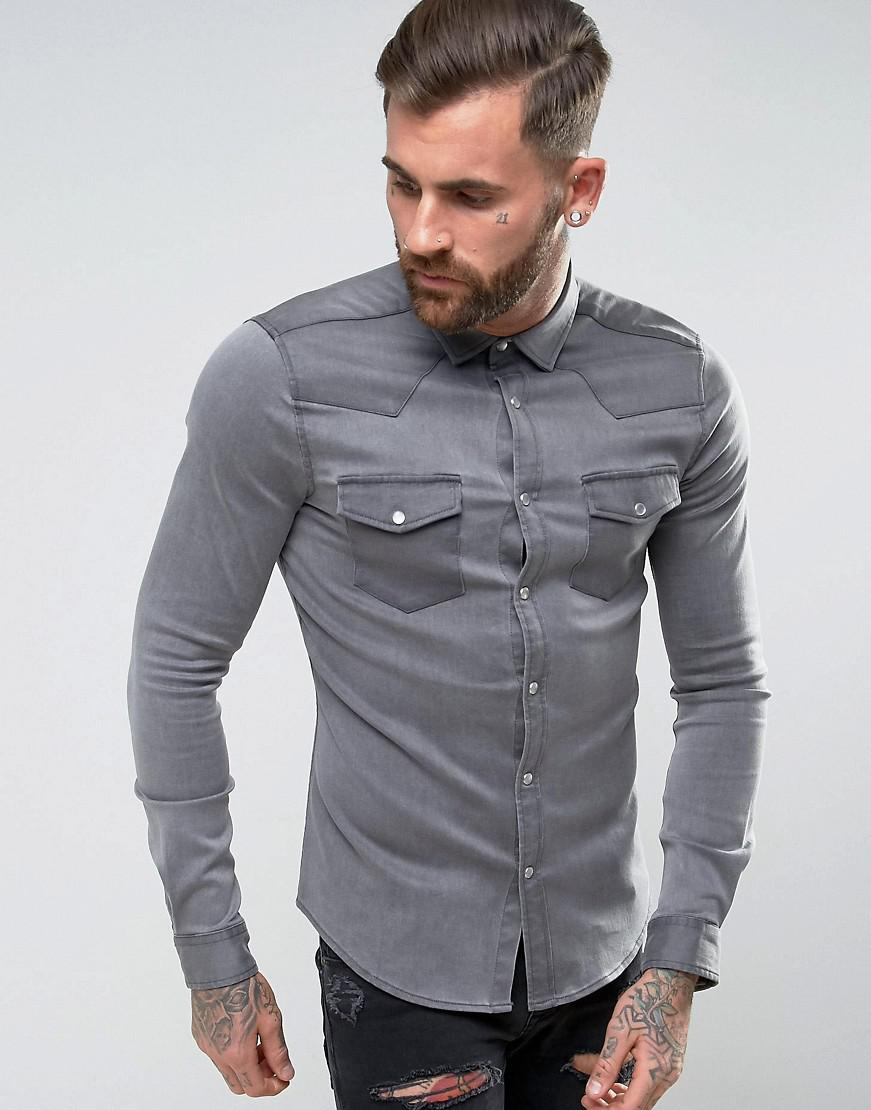teeshirt: (132, 301, 769, 1017)
